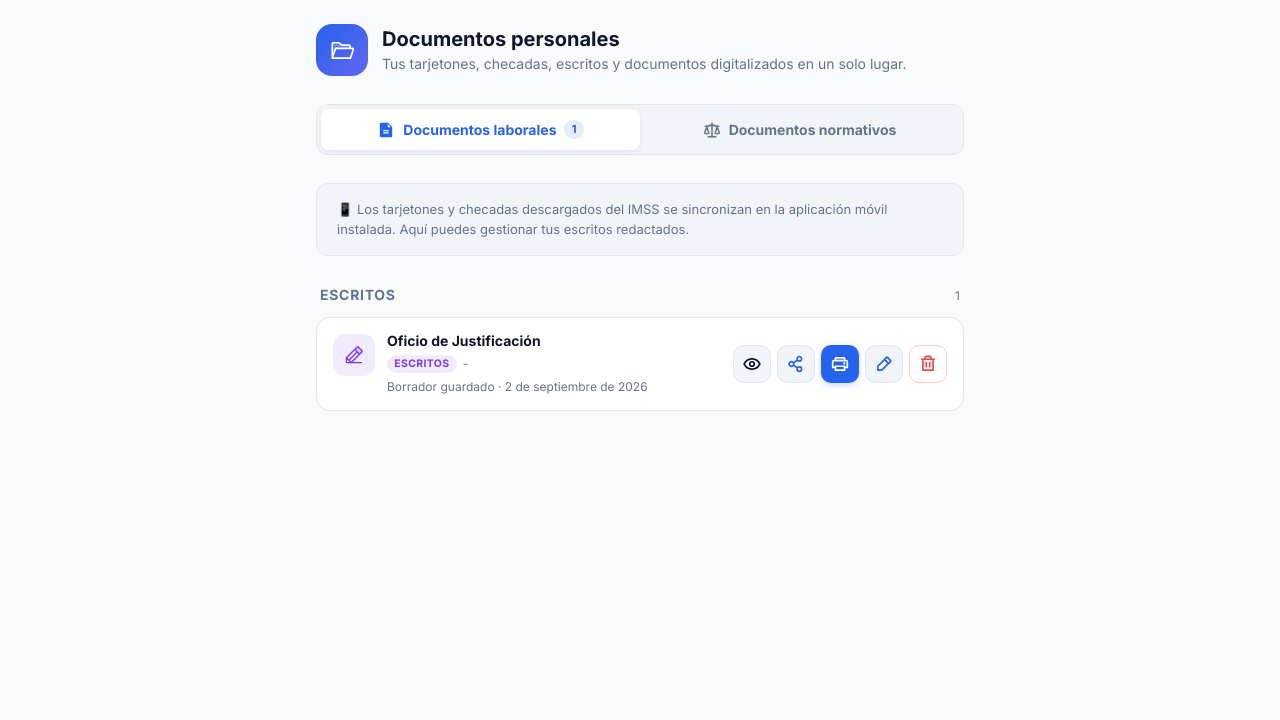
Test case: DocumentosPersonales (Integración con Escritos y Panel Inline) › muestra el modal de confirmación y elimina un escrito reactivamente
The width and height of the screenshot is (1280, 720).
Expected: the text "Oficio de Justificación" is shown, 387,332 -> 541,349
Step 1. Click the button named "Eliminar documento" → (928, 364), box 909,345 -> 947,383
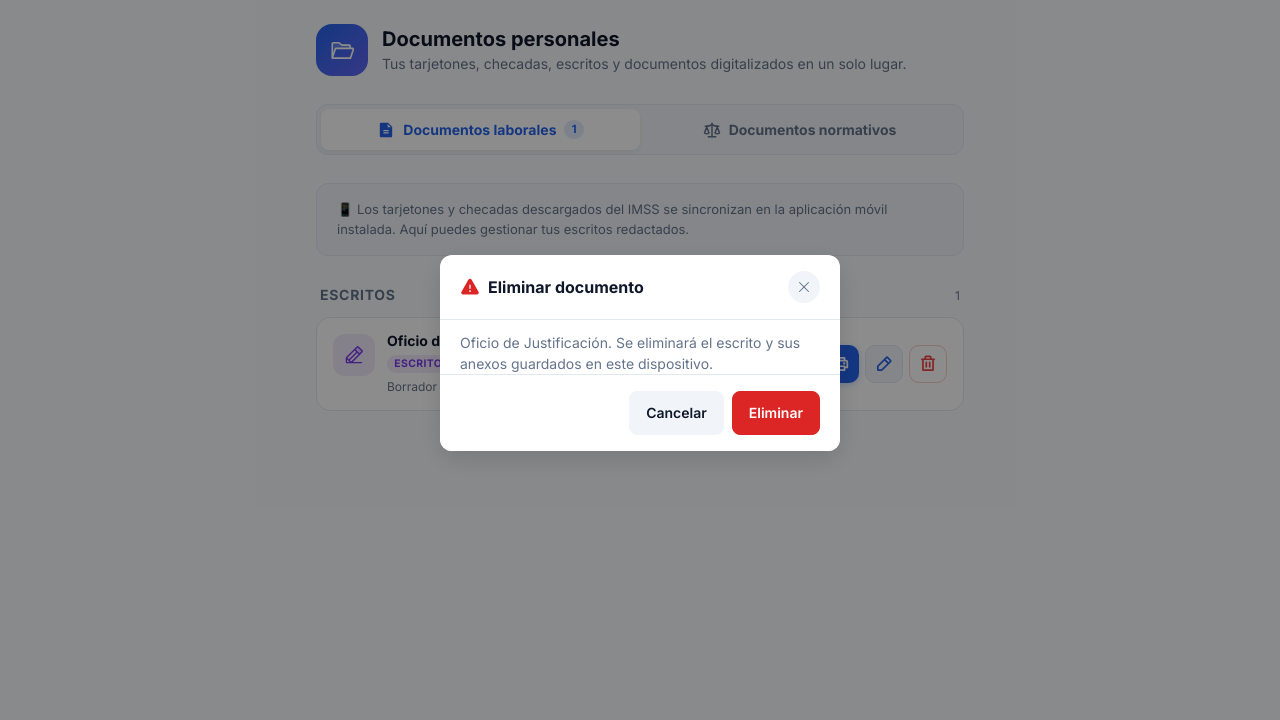
Result: the dialog is shown at 440,255 -> 840,451
Result: the text "Se eliminará el escrito y sus anexos guardados en este dispositivo" is shown at 460,334 -> 800,372
Step 2. Click the button "Eliminar" → (776, 413), box 732,391 -> 820,435
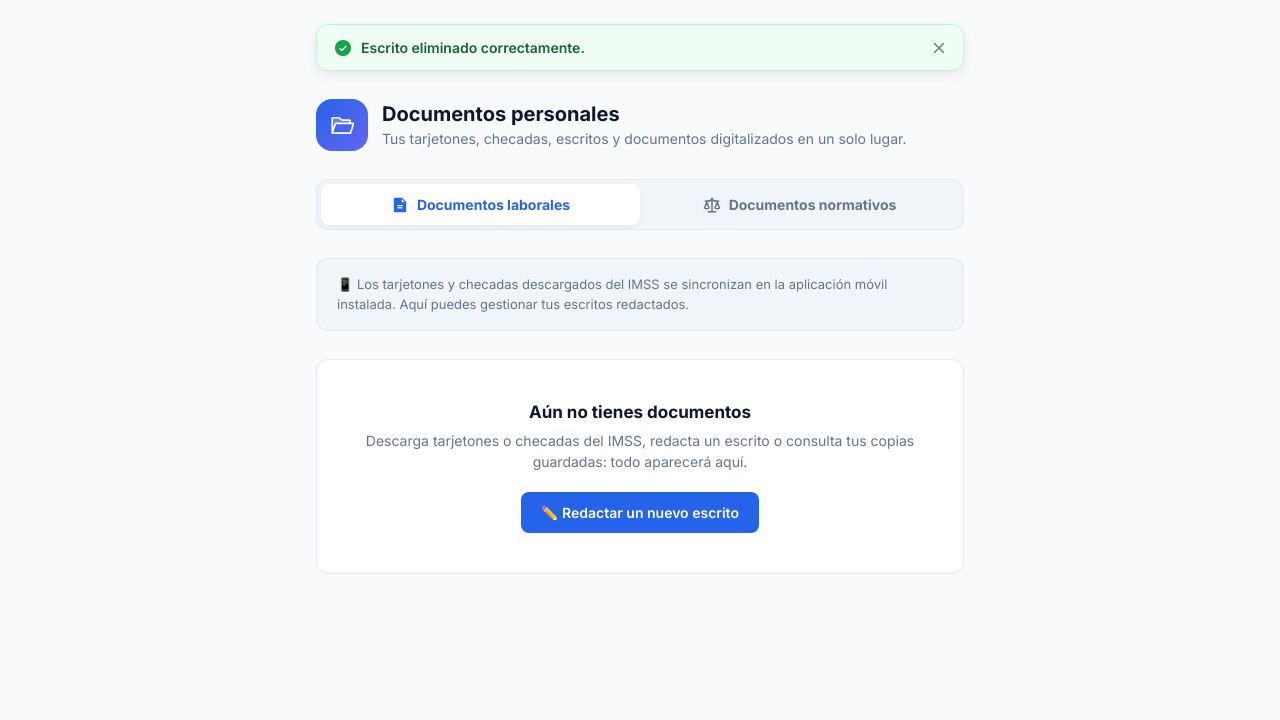
Result: the text "Escrito eliminado correctamente." is shown at 361,37 -> 585,58
Result: the text "Oficio de Justificación" is gone
